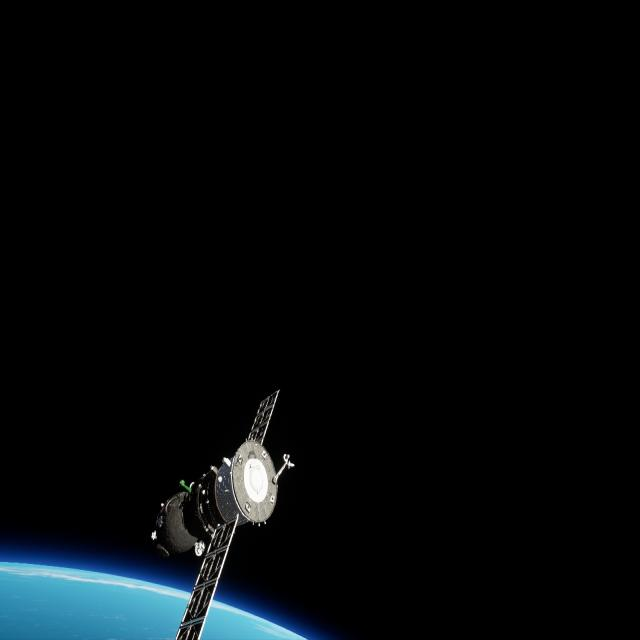Satellites revolving around earth: (149, 387, 297, 638)
